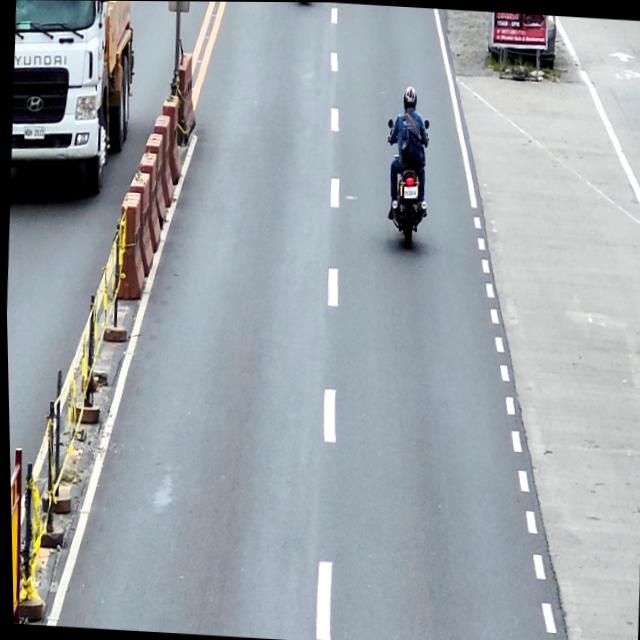License-Plate: (22, 125, 45, 140), (402, 185, 416, 199)
Motorcycle: (381, 116, 431, 250)
Truck: (6, 0, 140, 196)
